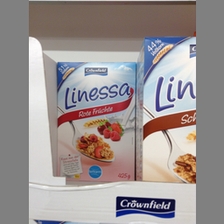cereal: (56, 61, 137, 182), (139, 37, 196, 183)
